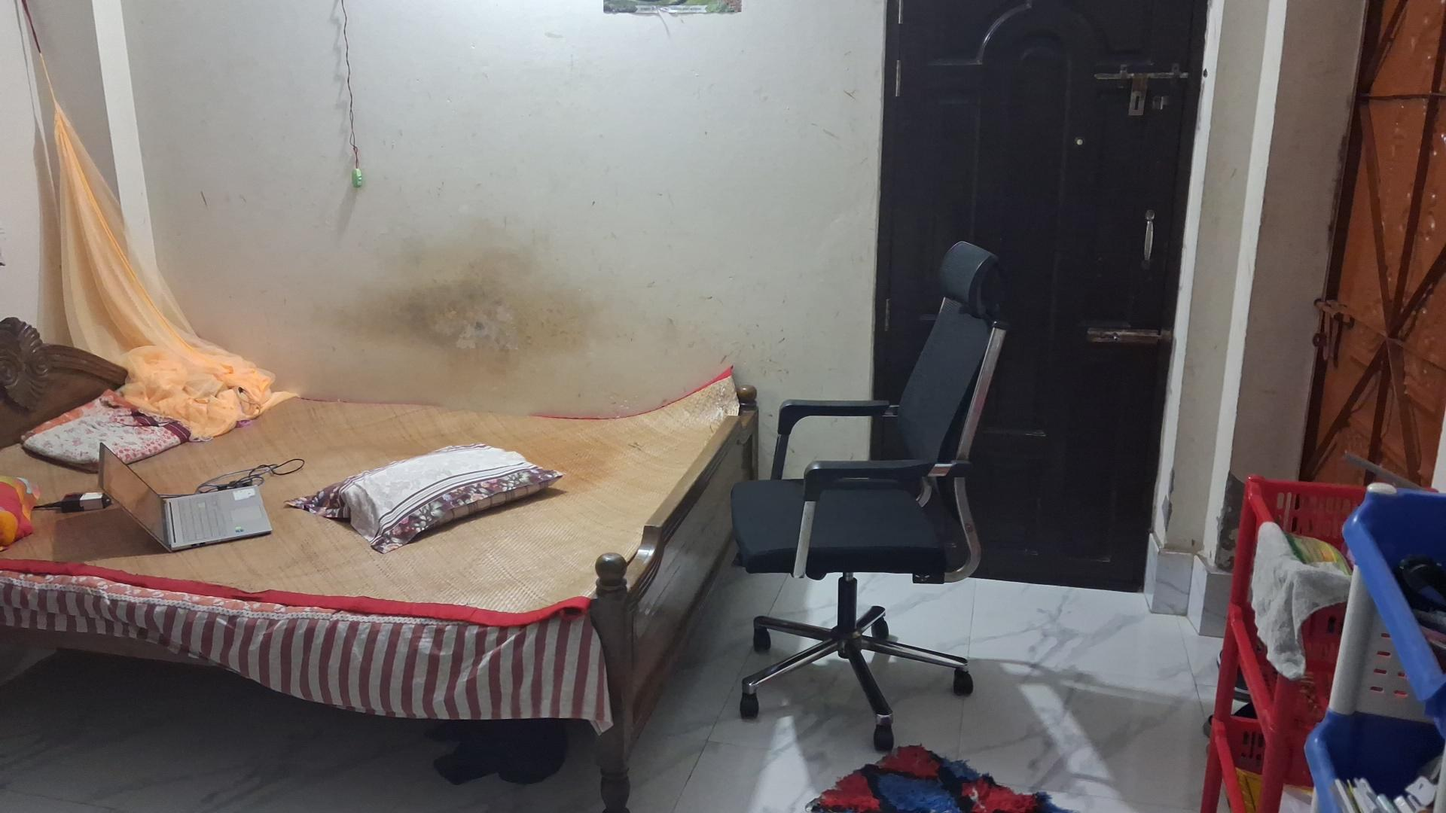Chair: (730, 241, 1010, 752)
Laptop: (85, 436, 272, 549)
Pillow: (297, 447, 579, 554)
